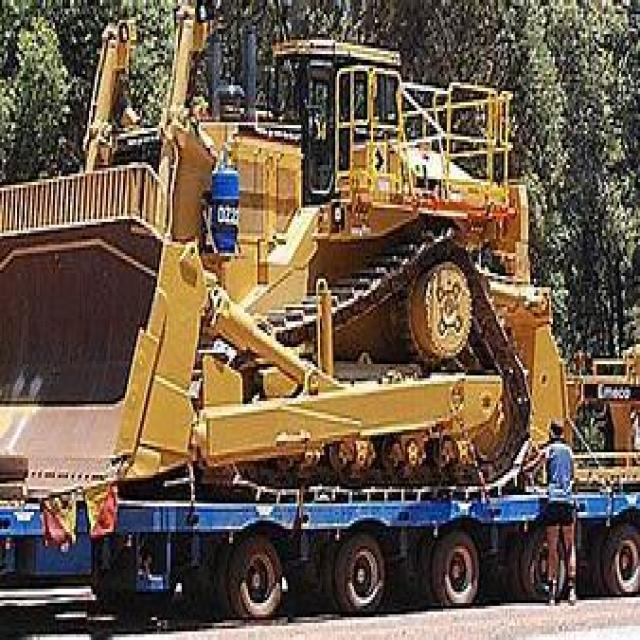Bulldozer: (8, 14, 590, 507)
